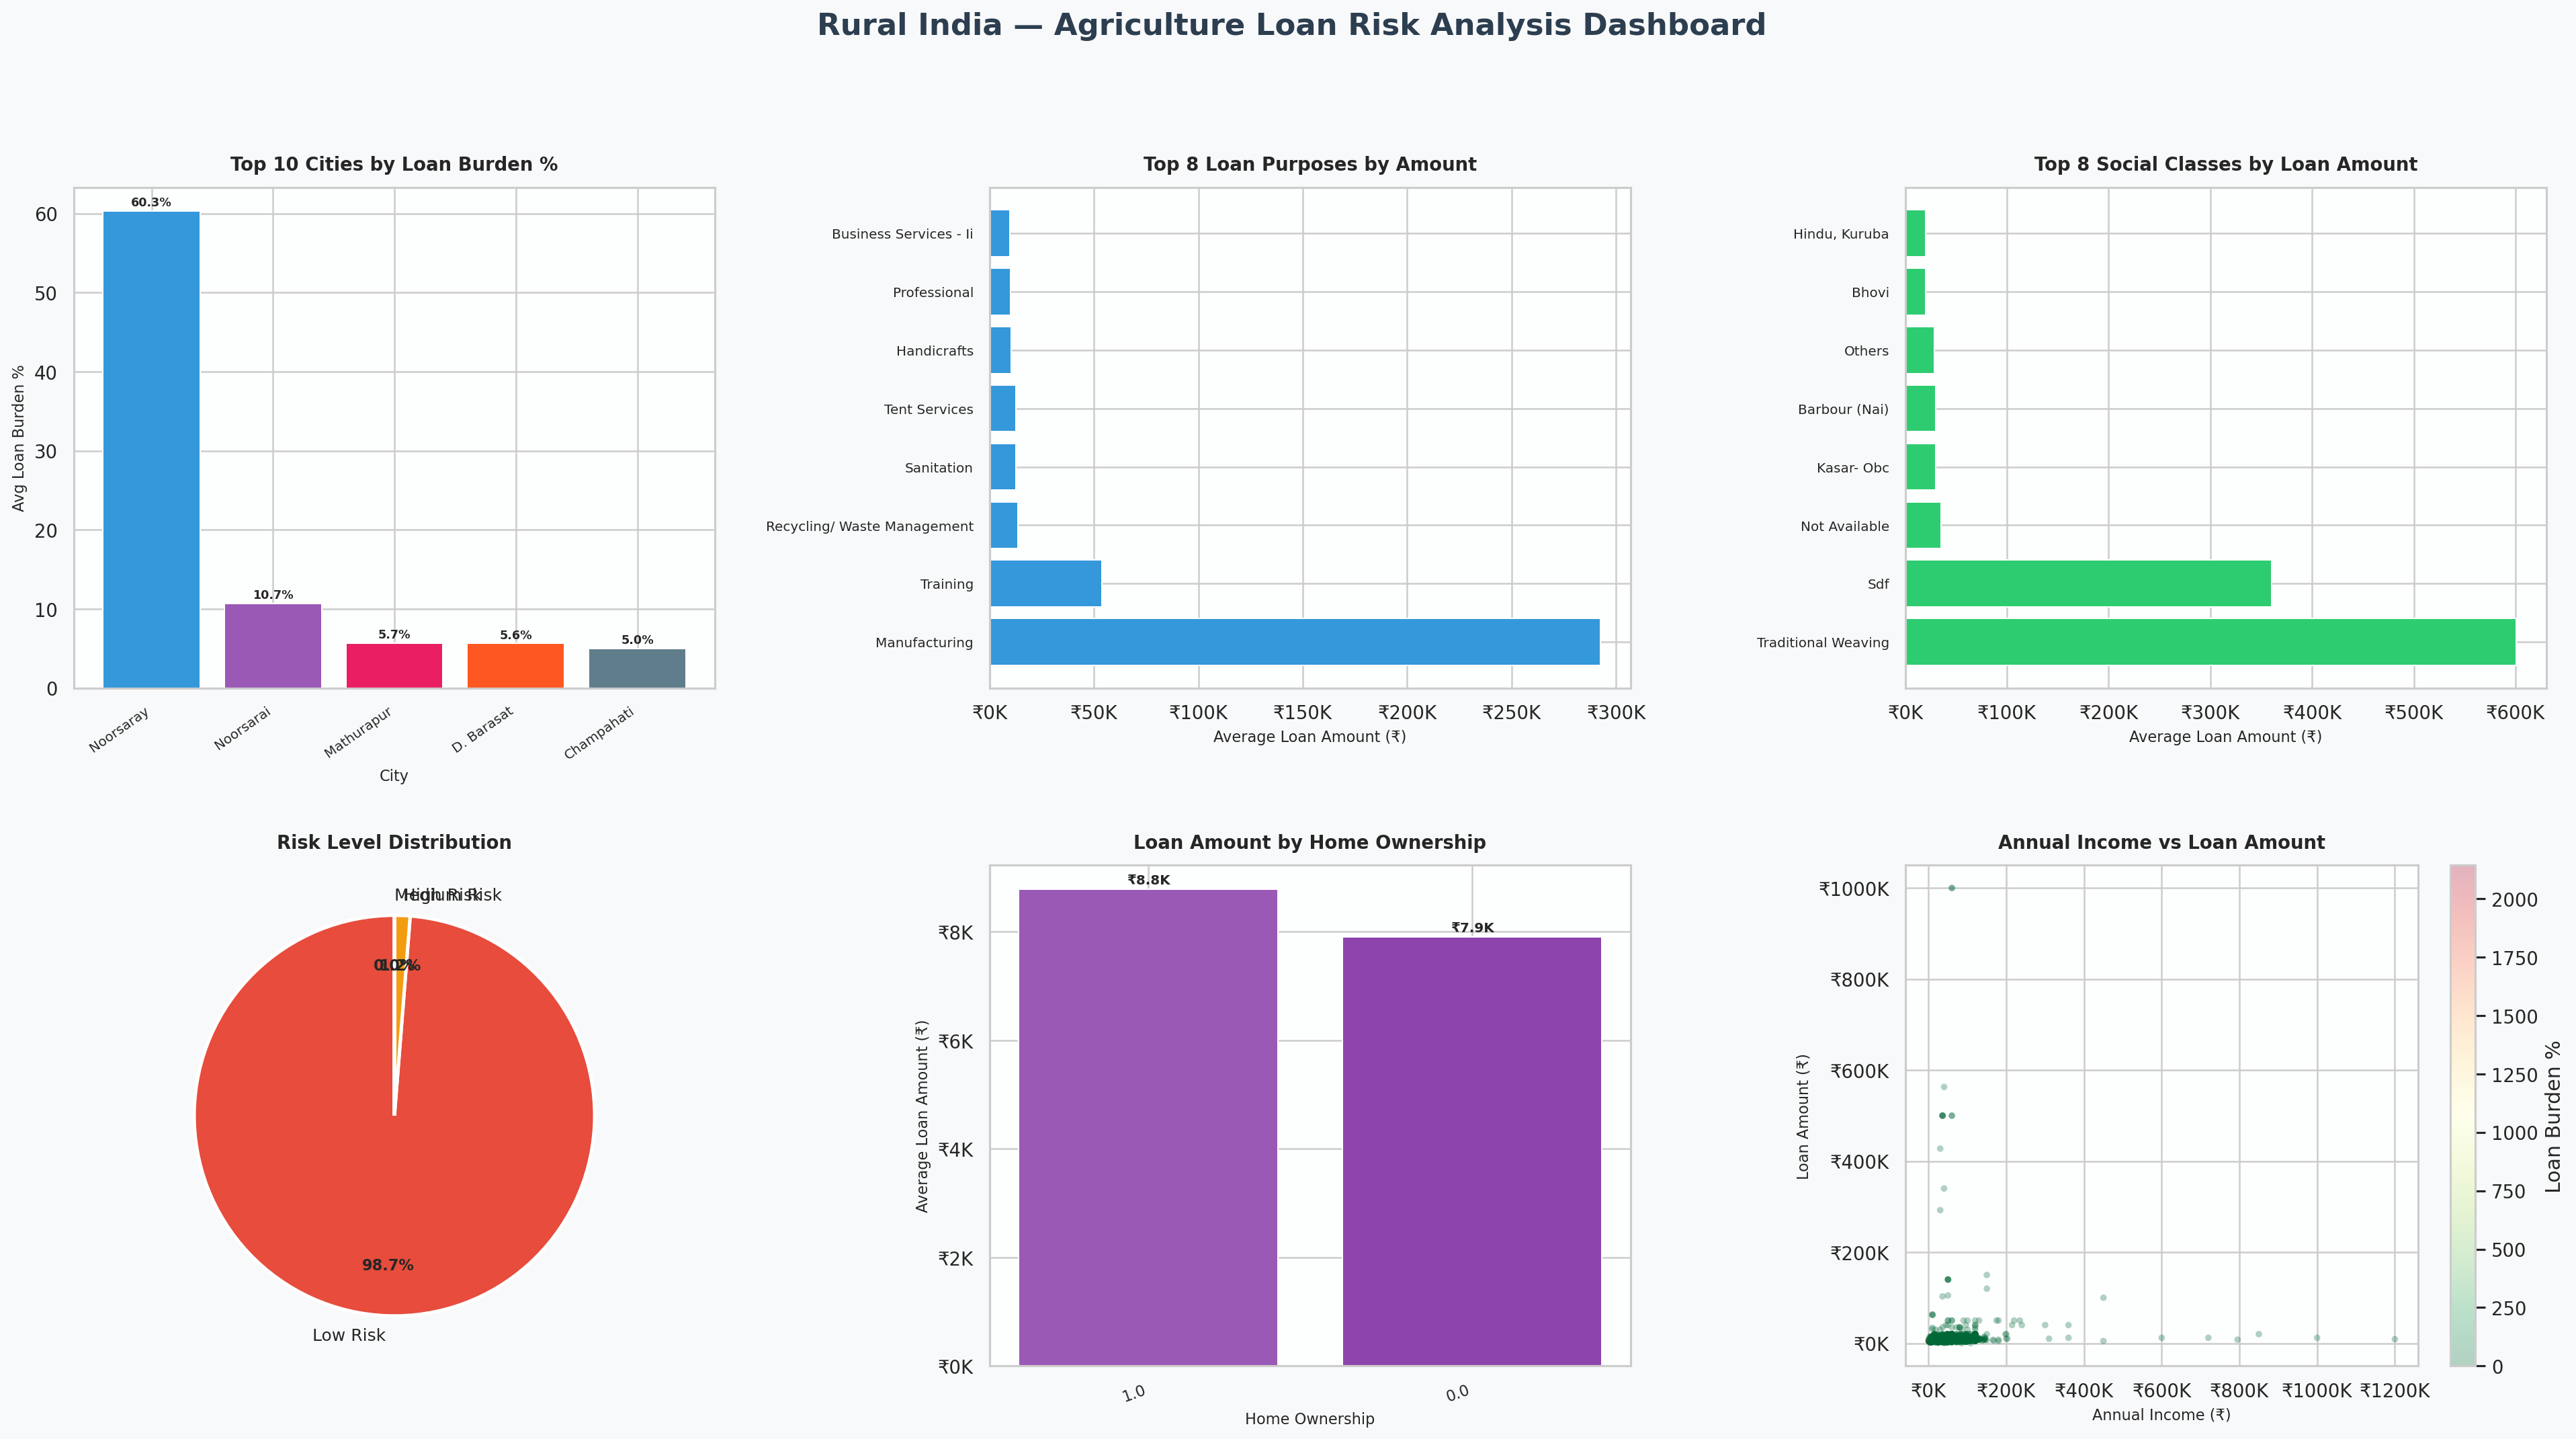

What the dashboard file says about the page in this screenshot:
{"tool":"powerbi","page":{"name":"DASHBOARD","canvas":[1280,720],"ordinal":0},"visuals":[{"type":"card","fields":{"Values":["CountNonNull(cleaned_loan_data.Id)"]},"box":[45.3,49.4,301.9,205.8],"z":0},{"type":"card","fields":{"Values":["Avg(cleaned_loan_data.loan_amount)"]},"box":[384.2,57.6,281.3,197.6],"z":1000},{"type":"card","fields":{"Values":["Avg(cleaned_loan_data.loan_burden_%)"]},"box":[698.5,57.6,277.2,197.6],"z":2000},{"type":"pieChart","title":"Risk Level Distribution","fields":{"Category":["cleaned_loan_data.risk_level"],"Y":["CountNonNull(cleaned_loan_data.risk_level)"]},"box":[45.3,271.7,297.8,249.7],"z":3000},{"type":"barChart","fields":{"Y":["Avg(cleaned_loan_data.loan_burden_%)"],"Category":["cleaned_loan_data.city"]},"box":[407.5,278.6,419.9,234.6],"z":4000},{"type":"treemap","title":" Top 10 Primary Businesses by Average Loan Amount","fields":{"Group":["cleaned_loan_data.primary_business"],"Values":["Avg(cleaned_loan_data.loan_amount)"]},"box":[859,271.7,421.3,229.2],"z":5000},{"type":"scatterChart","title":"Annual Income vs Loan Amount by Risk Level","fields":{"X":["Sum(cleaned_loan_data.annual_income)"],"Y":["cleaned_loan_data.loan_amount"],"Series":["cleaned_loan_data.risk_level"]},"box":[45.3,532.4,293.7,186.6],"z":6000},{"type":"donutChart","fields":{"Category":["cleaned_loan_data.home_ownership"],"Y":["Avg(cleaned_loan_data.loan_amount)"]},"box":[407.5,521.4,419.9,188],"z":7000},{"type":"lineChart","title":"Age vs Average Loan Burden % Trend","fields":{"Category":["cleaned_loan_data.age"],"Y":["Avg(cleaned_loan_data.loan_burden_%)"]},"box":[849.4,500.9,421.3,188],"z":8000},{"type":"slicer","title":"RISK LEVEL","fields":{"Values":["cleaned_loan_data.risk_level"]},"box":[996.2,57.6,284,197.6],"z":9000},{"type":"textbox","box":[450.1,0,495.4,49.4],"z":10000},{"type":"actionButton","title":"  Deep Analysis ","box":[1138.9,694.3,141.3,24.7],"z":11000}]}

Visuals, with their boxes in screenshot pixels (x1, y1, x2, y2), scaled from the page's 1280x720 canvas onto the 2576x1439 screenshot:
card - CountNonNull(cleaned_loan_data.Id): Rect(91, 99, 699, 510)
card - Avg(cleaned_loan_data.loan_amount): Rect(773, 115, 1339, 510)
card - Avg(cleaned_loan_data.loan_burden_%): Rect(1406, 115, 1964, 510)
"Risk Level Distribution" pieChart: Rect(91, 543, 691, 1042)
barChart - Avg(cleaned_loan_data.loan_burden_%) x cleaned_loan_data.city: Rect(820, 557, 1665, 1026)
" Top 10 Primary Businesses by Average Loan Amount" treemap: Rect(1729, 543, 2575, 1001)
"Annual Income vs Loan Amount by Risk Level" scatterChart: Rect(91, 1064, 682, 1437)
donutChart - cleaned_loan_data.home_ownership x Avg(cleaned_loan_data.loan_amount): Rect(820, 1042, 1665, 1417)
"Age vs Average Loan Burden % Trend" lineChart: Rect(1709, 1001, 2557, 1377)
"RISK LEVEL" slicer: Rect(2005, 115, 2575, 510)
textbox: Rect(906, 0, 1903, 99)
"  Deep Analysis " actionButton: Rect(2292, 1388, 2575, 1437)
